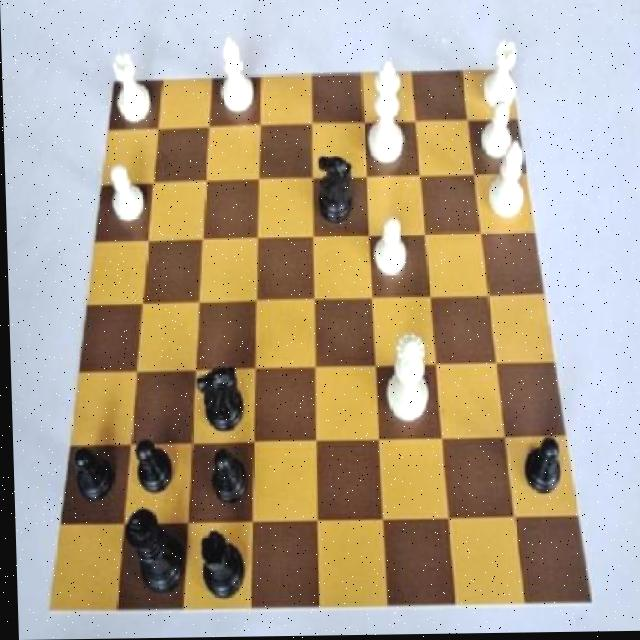black-bishop: (119, 496, 183, 605)
black-king: (190, 357, 245, 440), (313, 146, 359, 238)
black-knight: (516, 432, 564, 514), (201, 439, 250, 518), (66, 440, 116, 516), (124, 429, 173, 505)
black-queen: (187, 523, 247, 610)
black-rook: (483, 141, 531, 226), (215, 33, 260, 119)
white-bishop: (360, 55, 407, 172)
white-knight: (368, 217, 412, 291), (107, 164, 148, 236), (478, 102, 519, 170)
white-pawn: (378, 332, 432, 433)
white-queen: (106, 47, 160, 131), (475, 33, 524, 118)
